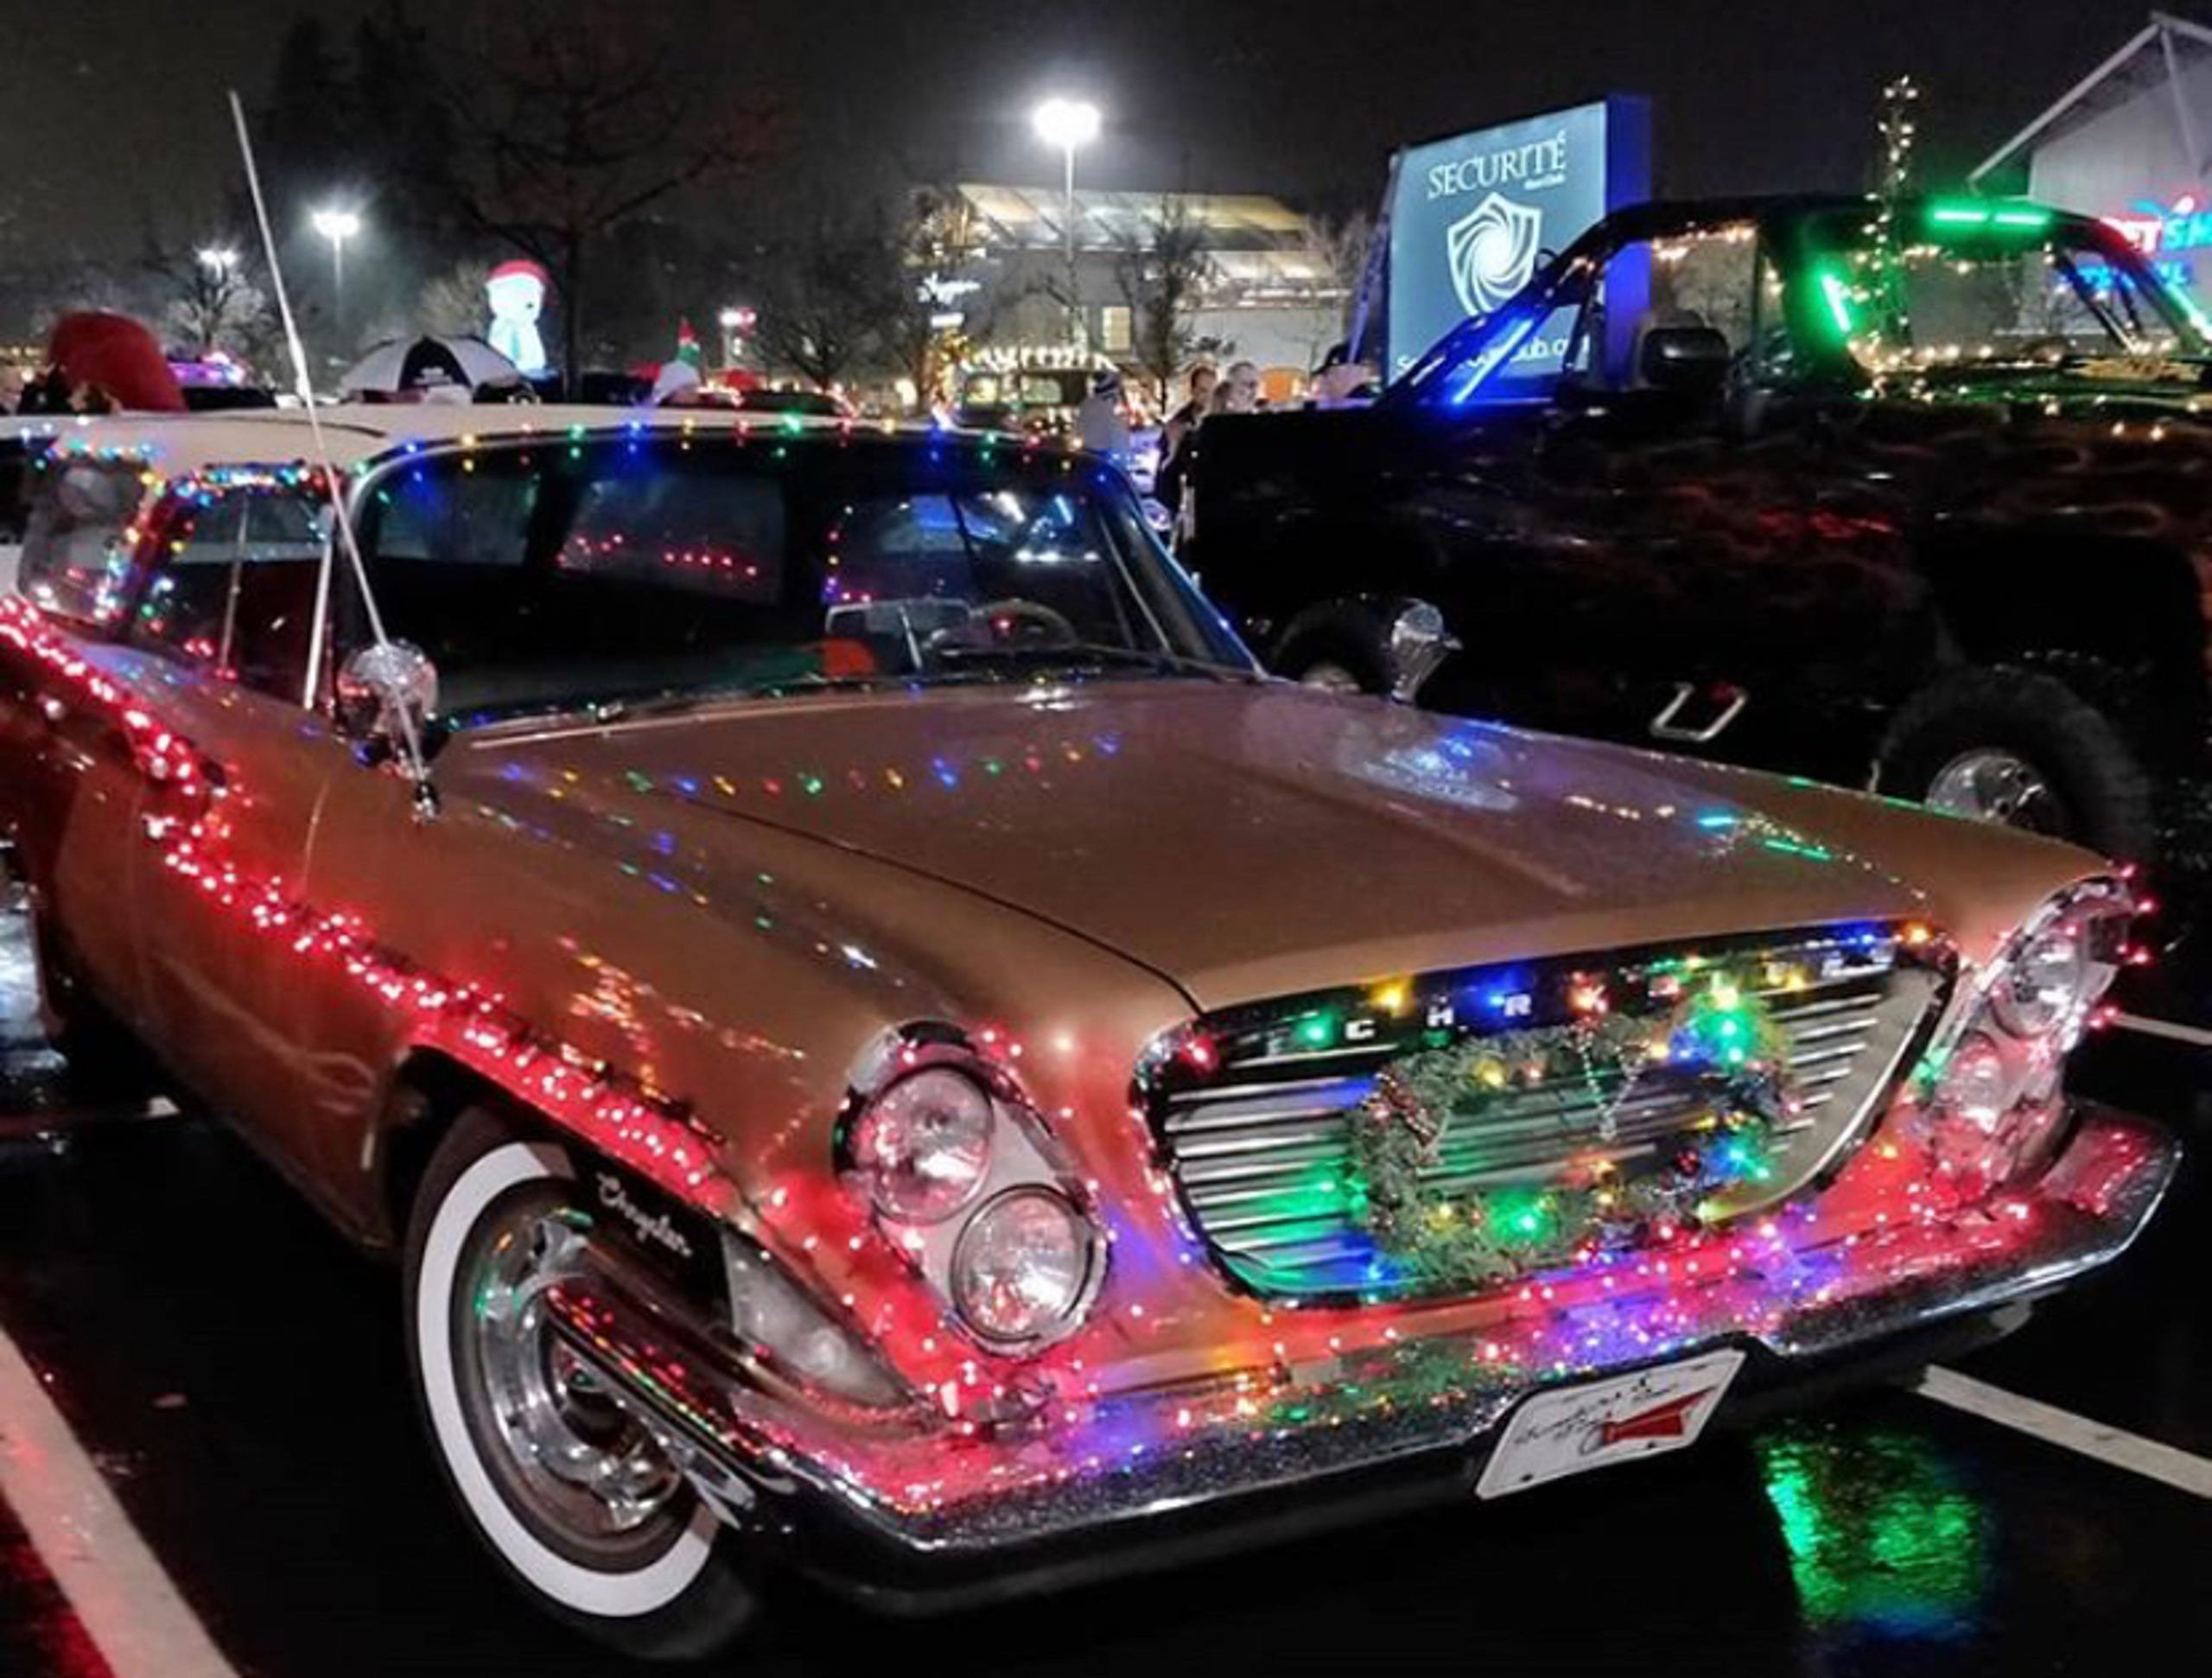car: (37, 372, 2173, 1597)
